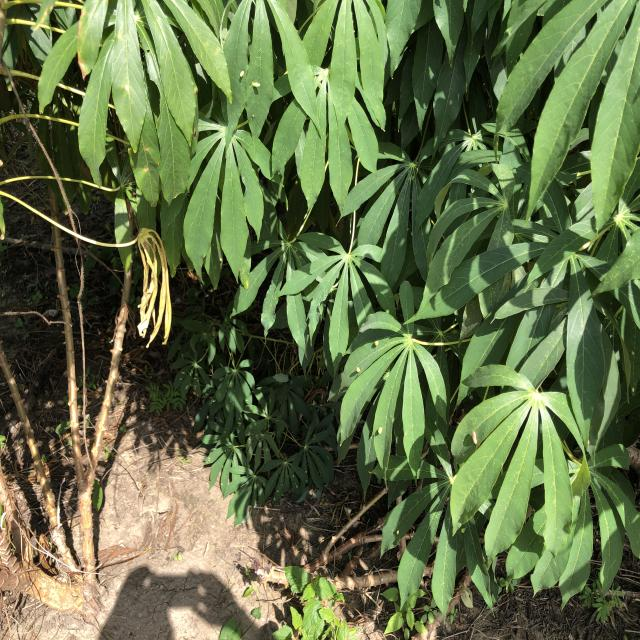Maleza: (272, 550, 367, 640)
Mosca: (466, 425, 484, 449), (350, 362, 364, 375), (375, 419, 385, 437), (234, 66, 247, 79), (249, 78, 261, 92), (372, 336, 384, 350), (249, 111, 258, 122), (394, 526, 401, 540)
